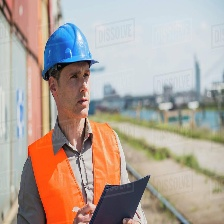helmet: (37, 26, 98, 71)
no-vest: (28, 118, 129, 224)
person: (22, 23, 144, 224)
